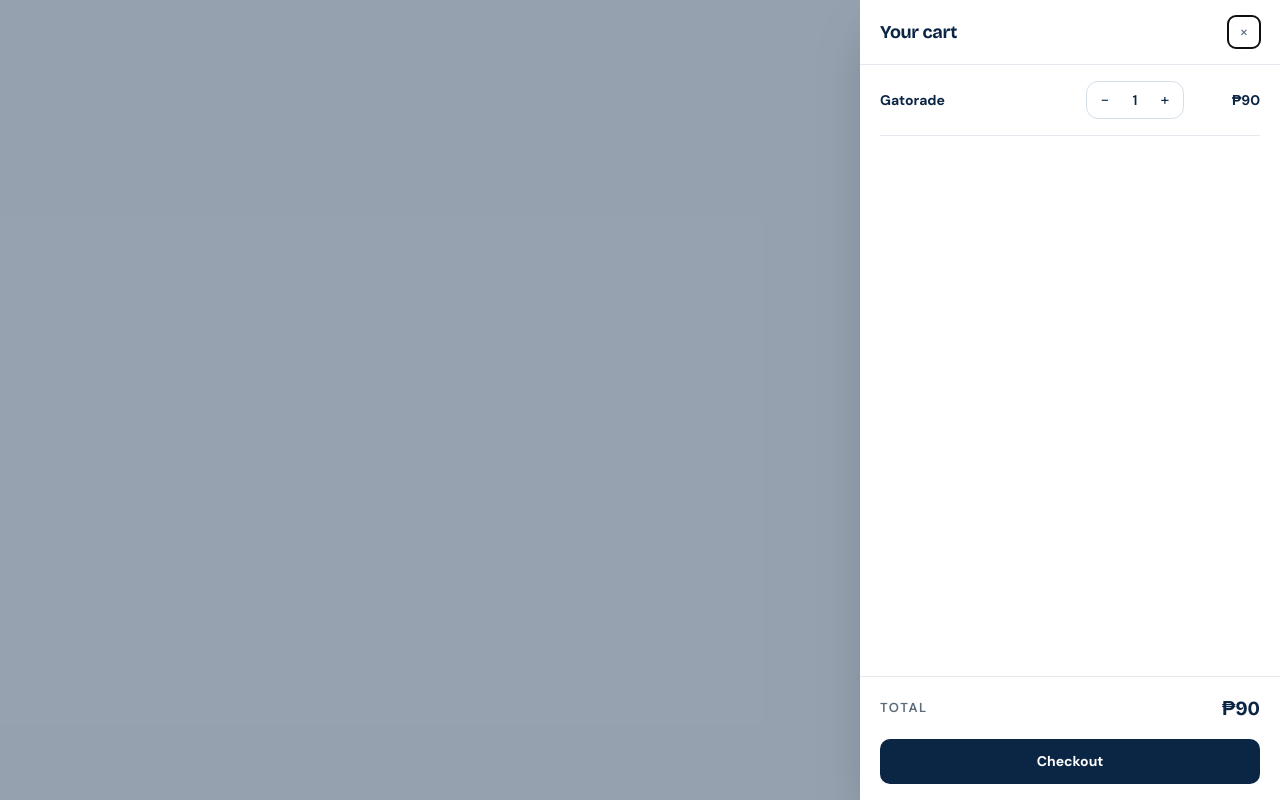
Test: CartDrawer › removes an add-on line once its quantity reaches zero
The image size is (1280, 800).
Click the button named "Decrease Gatorade". click: (1105,100)
box: [1091, 86, 1119, 114]
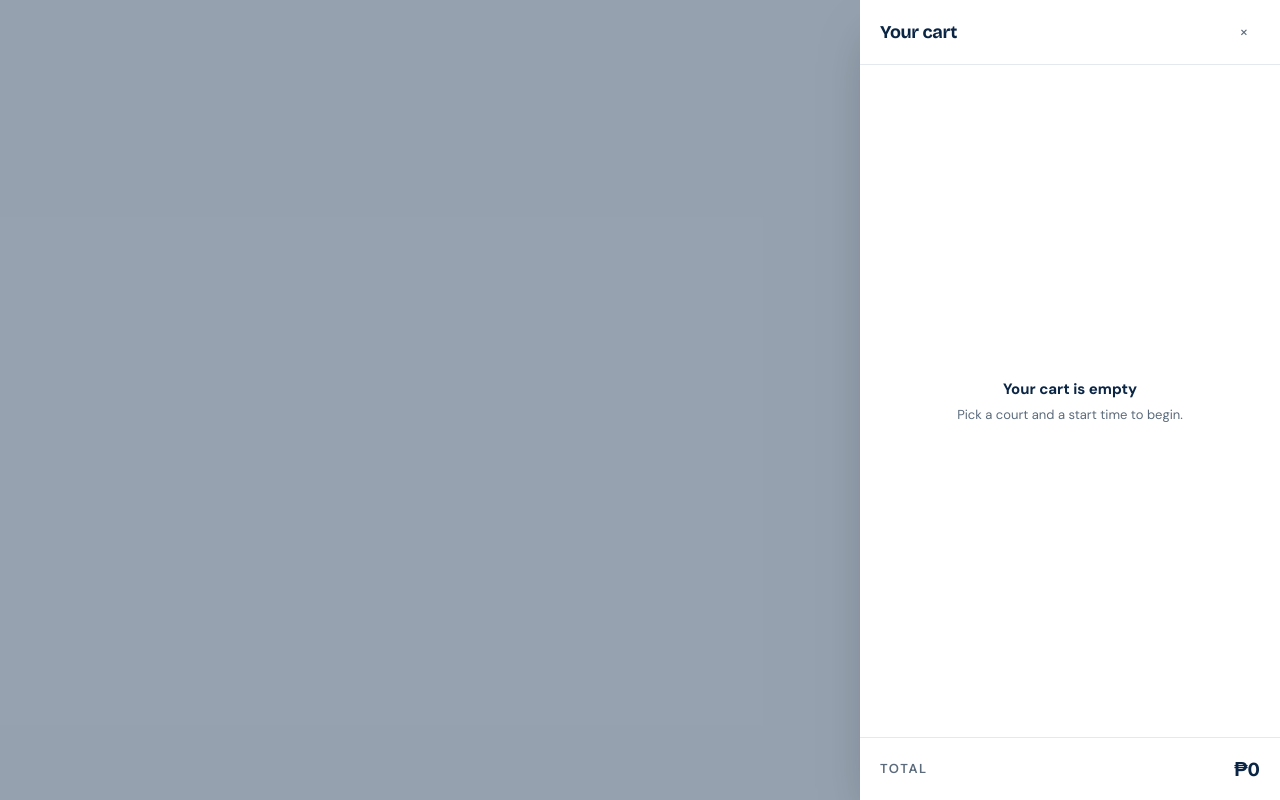
Check: the text "Gatorade" is gone
